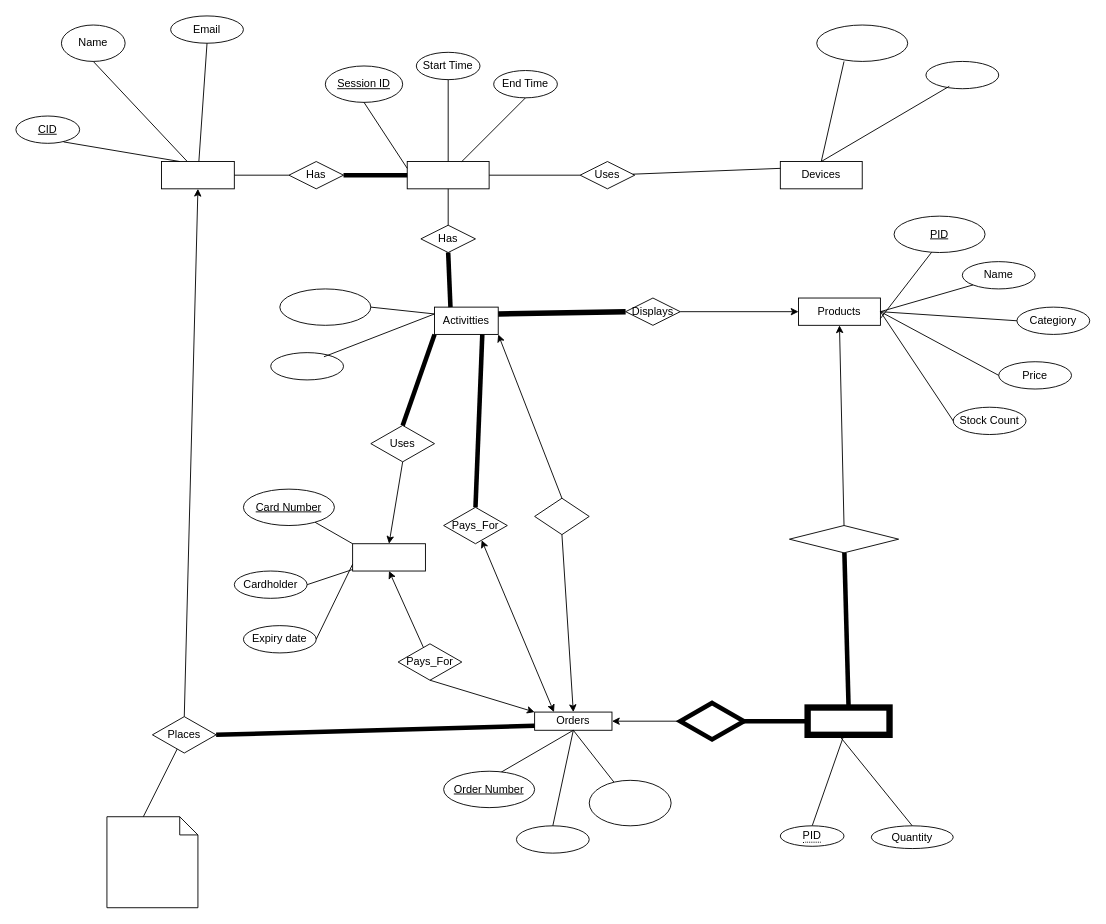
Some shapes in this 1106 by 924 pixel diagram are drawn without their labels. The shapes that lost their labels are listed below. From the top down, each one's centre as x and y in pixels, then its label:
[862,42]: IP Address
[962,75]: Device Type
[197,175]: Customers
[447,175]: Sessions
[325,306]: Activity ID
[307,366]: Timestamp
[561,516]: Creates
[388,557]: Credit Card
[844,539]: Is Referenced by
[711,720]: Contains
[848,721]: OrderItem
[629,802]: Shipping Address
[552,839]: Order Date
[152,862]: To fultill requiremntt that "Orders may not be linked to a Session"
